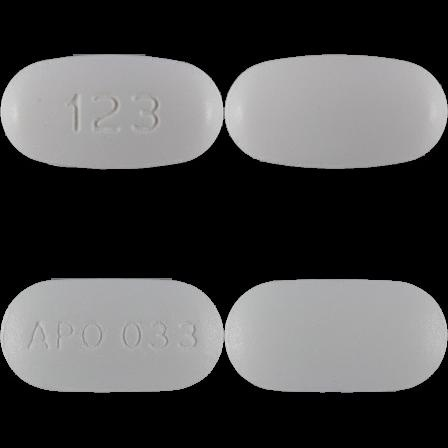68788-9741: (0, 0, 224, 224)
